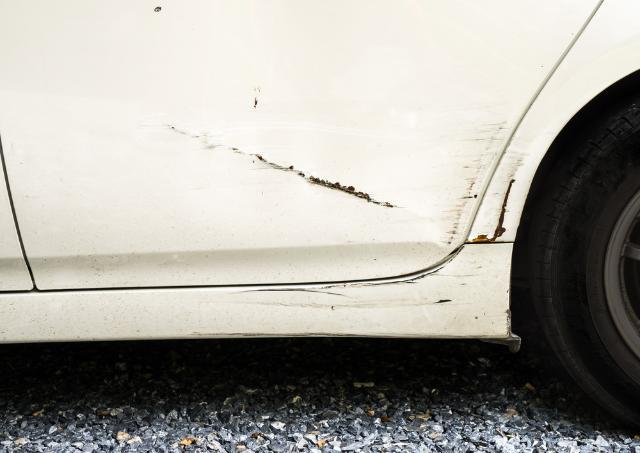scratch: (171, 119, 512, 245), (237, 247, 482, 312), (470, 151, 531, 243)
